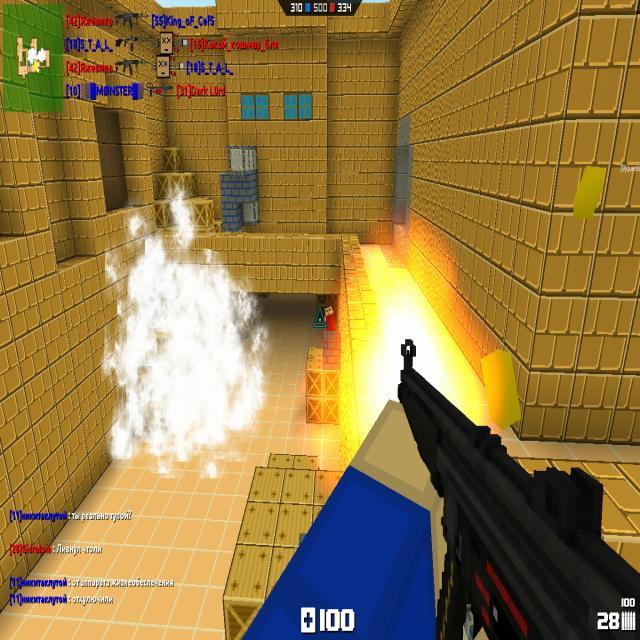enemy: (324, 304, 336, 332)
